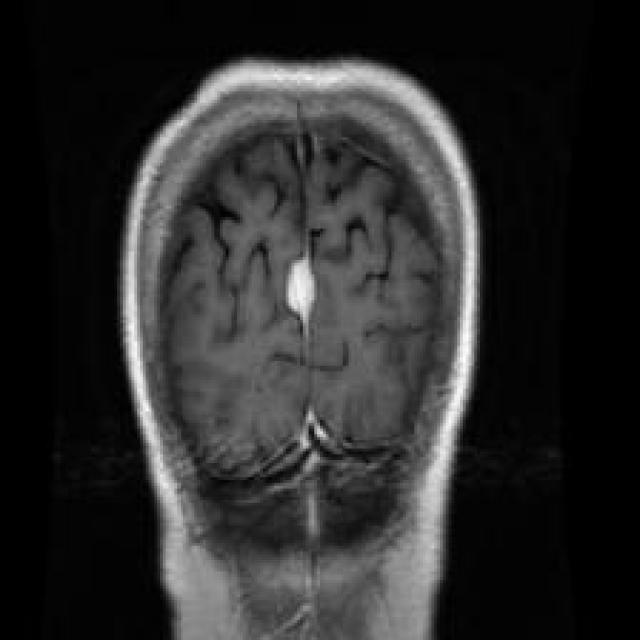meningioma_tumor: (272, 222, 332, 352)
